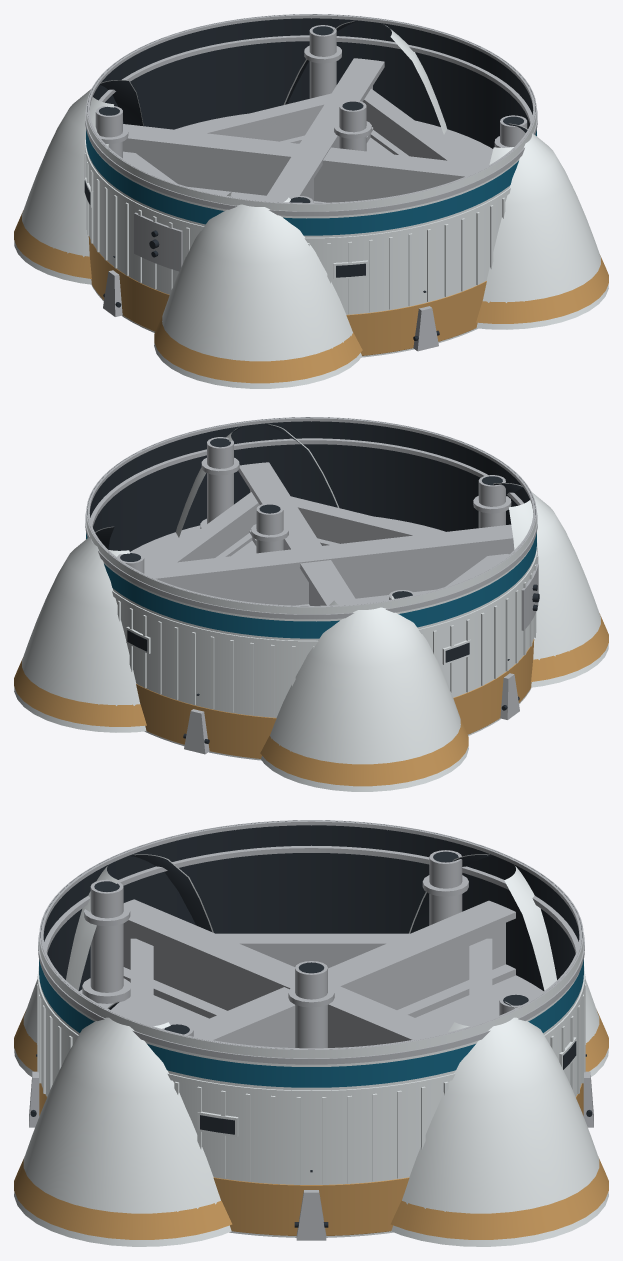
The model's file is mount_s1_5_d84.fbx.
3 views of the same model, one above another, from view 1: azimuth 30°, elevation 25°; view 2: azimuth 150°, elevation 25°; view 3: azimuth 270°, elevation 25° (orthographic). The views are drawn at different scales.
Parts seen in each view (by area): view 1: mount_s1_5_d84_LOD0; view 2: mount_s1_5_d84_LOD0; view 3: mount_s1_5_d84_LOD0.
Part boxes in pixels (x1,y1,x2,y2): mount_s1_5_d84_LOD0: (14,14,608,388); mount_s1_5_d84_LOD0: (14,417,608,791); mount_s1_5_d84_LOD0: (14,820,608,1246).
Size of what is drawn, in the model's own units: 9.18 by 3.2 by 9.18.
